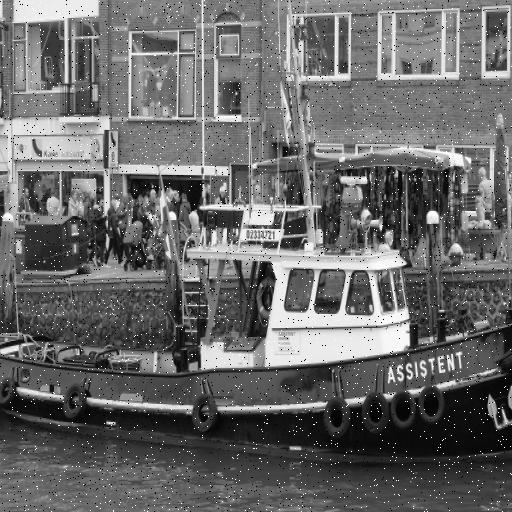tugboat: (1, 160, 512, 484)
